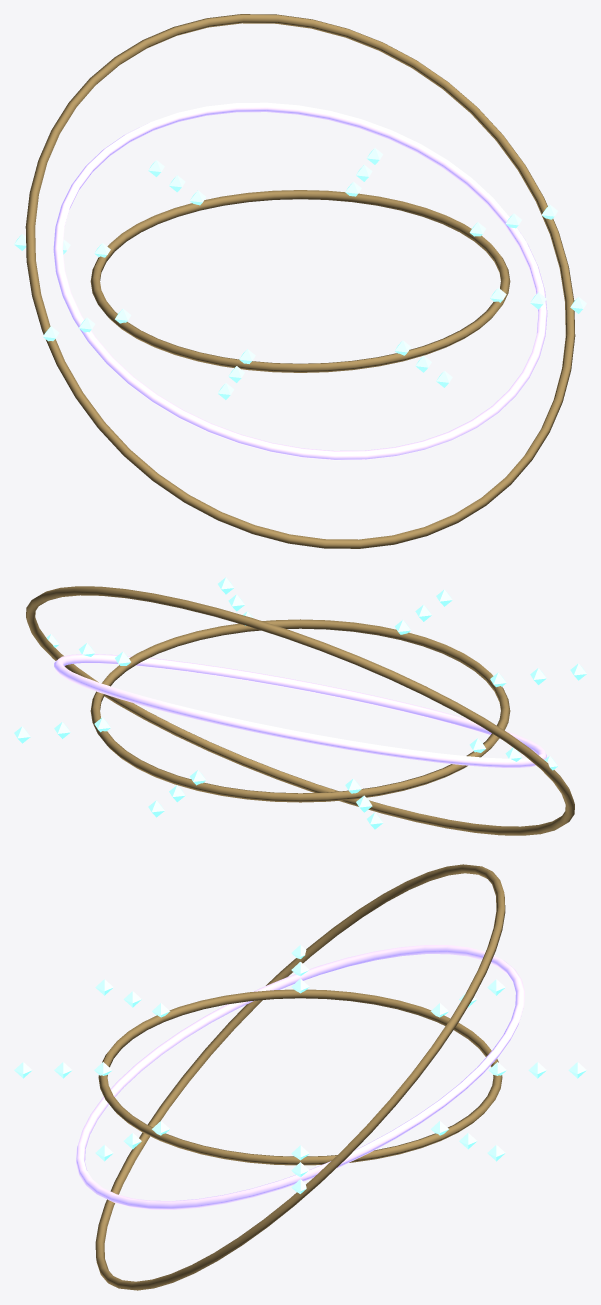
File: arcane-rings.glb
The picture shows the model from 3 angles, top to bottom: view 1: azimuth 30°, elevation 25°; view 2: azimuth 150°, elevation 25°; view 3: azimuth 270°, elevation 25°; orthographic projection. The views are drawn at different scales.
Visible parts, largest first — view 1: RingPivot_2_gold, RingPivot_1_rune, RingPivot_0_gold, RingPivot_2_glow, RingPivot_0_glow, RingPivot_1_glow; view 2: RingPivot_2_gold, RingPivot_1_rune, RingPivot_0_gold, RingPivot_1_glow, RingPivot_2_glow, RingPivot_0_glow; view 3: RingPivot_2_gold, RingPivot_1_rune, RingPivot_0_gold, RingPivot_2_glow, RingPivot_0_glow, RingPivot_1_glow.
Part boxes in pixels (<box>): RingPivot_2_gold: <box>25,14,575,548</box>; RingPivot_1_rune: <box>53,102,547,460</box>; RingPivot_0_gold: <box>90,190,510,372</box>; RingPivot_2_glow: <box>14,148,586,399</box>; RingPivot_0_glow: <box>94,181,506,363</box>; RingPivot_1_glow: <box>63,164,546,382</box>; RingPivot_2_gold: <box>26,586,574,835</box>; RingPivot_1_rune: <box>54,654,546,767</box>; RingPivot_0_gold: <box>90,619,510,802</box>; RingPivot_1_glow: <box>54,594,546,812</box>; RingPivot_2_glow: <box>14,577,586,829</box>; RingPivot_0_glow: <box>94,611,506,793</box>; RingPivot_2_gold: <box>95,864,505,1290</box>; RingPivot_1_rune: <box>76,945,524,1209</box>; RingPivot_0_gold: <box>98,989,502,1165</box>; RingPivot_2_glow: <box>14,945,586,1193</box>; RingPivot_0_glow: <box>94,978,506,1160</box>; RingPivot_1_glow: <box>54,962,546,1177</box>.
Bounding box in the file's own units: 2.15 × 1.46 × 2.15.
